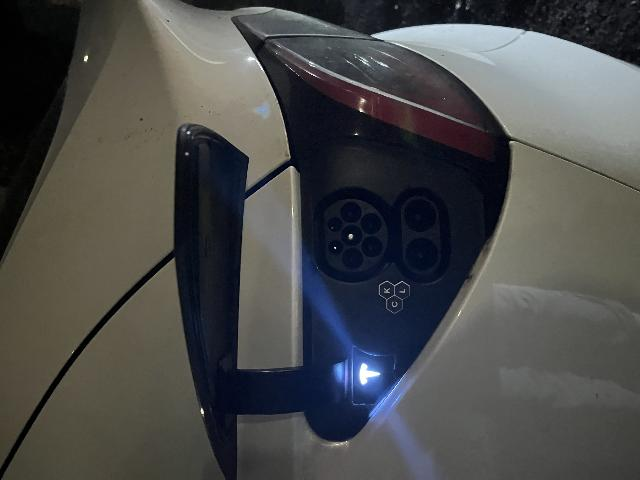inlet: (208, 324, 281, 388)
inlet-above-left: (225, 328, 240, 343)
inlet-above-right: (246, 360, 267, 382), (248, 326, 264, 343)
inlet-below-left: (223, 361, 244, 382)
inlet-circle: (234, 341, 255, 363)
inlet-circle-left: (212, 342, 232, 363)
inlet-circle-right: (257, 340, 278, 362)
inlet-minus: (248, 405, 281, 437)
inlet-plus: (209, 406, 243, 438)
